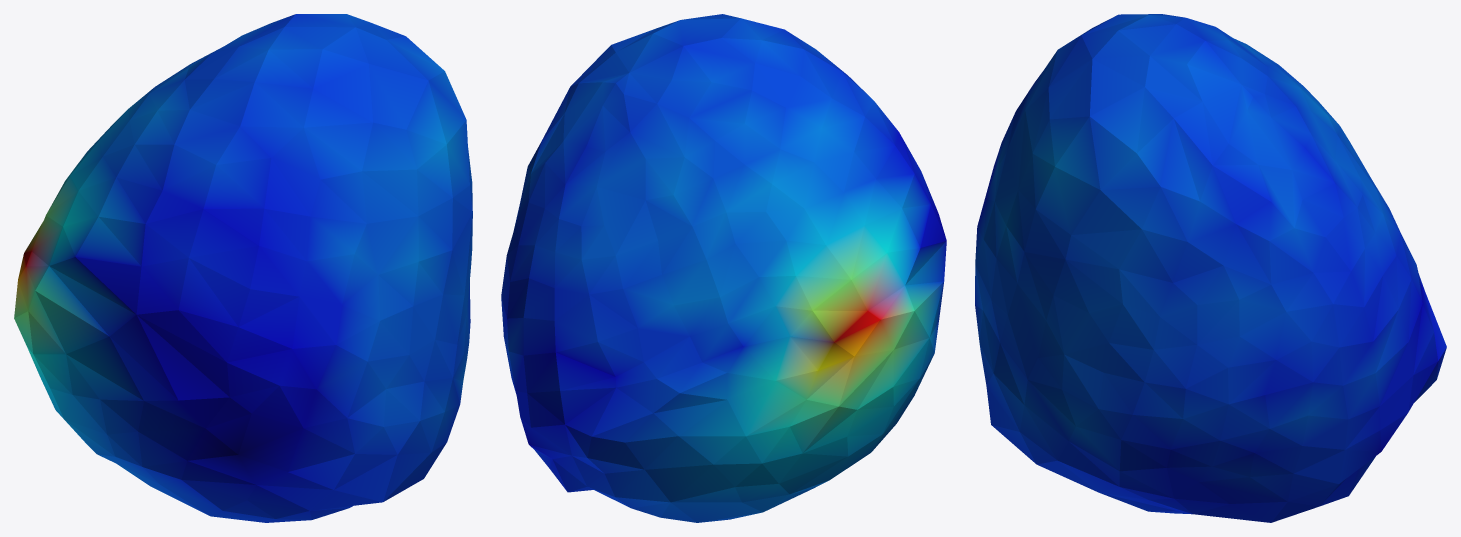
Rendered from heartwithColor90.obj.
3 views of the same model, side by side, from view 1: azimuth 30°, elevation 25°; view 2: azimuth 150°, elevation 25°; view 3: azimuth 270°, elevation 25° (orthographic). The views are drawn at different scales.
Bounding box in the file's own units: 71.7 × 81.16 × 72.94.
